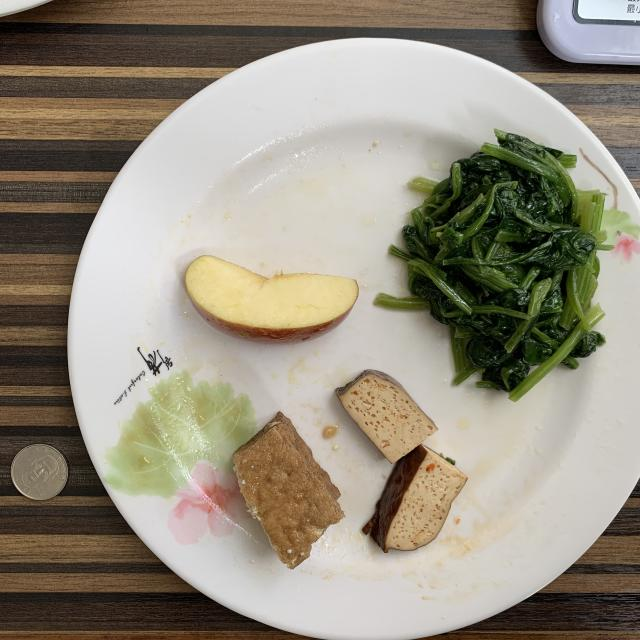apple -sliced-: (185, 255, 359, 344)
coin: (11, 444, 69, 500)
egg tofu: (232, 411, 344, 569)
firm tofu: (336, 370, 468, 552)
mustard greens: (375, 130, 612, 400)
